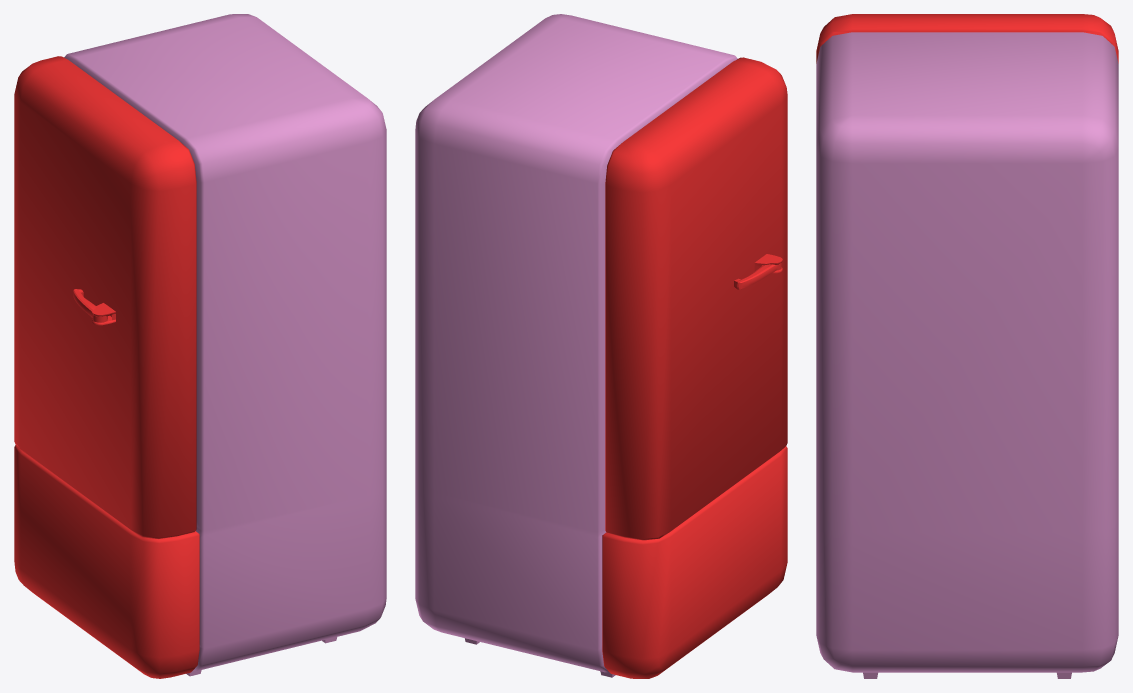
File: Fridge.FBX
3 renders of one model, left to right at view 1: azimuth 30°, elevation 25°; view 2: azimuth 150°, elevation 25°; view 3: azimuth 270°, elevation 25°, orthographic. The views are drawn at different scales.
Parts seen in each view (by area): view 1: Fridge_LP, FridgeDoor_LP, FridgeBot_LP; view 2: Fridge_LP, FridgeDoor_LP, FridgeBot_LP; view 3: Fridge_LP, FridgeDoor_LP.
Boxes of the visible parts, <box> form: Fridge_LP: <box>64,14,386,676</box>; FridgeDoor_LP: <box>14,56,196,538</box>; FridgeBot_LP: <box>14,445,199,678</box>; Fridge_LP: <box>415,14,737,677</box>; FridgeDoor_LP: <box>605,57,787,540</box>; FridgeBot_LP: <box>602,446,787,678</box>; Fridge_LP: <box>816,32,1118,678</box>; FridgeDoor_LP: <box>816,14,1118,63</box>.
Bounding box in the file's own units: 118 × 228 × 110.
